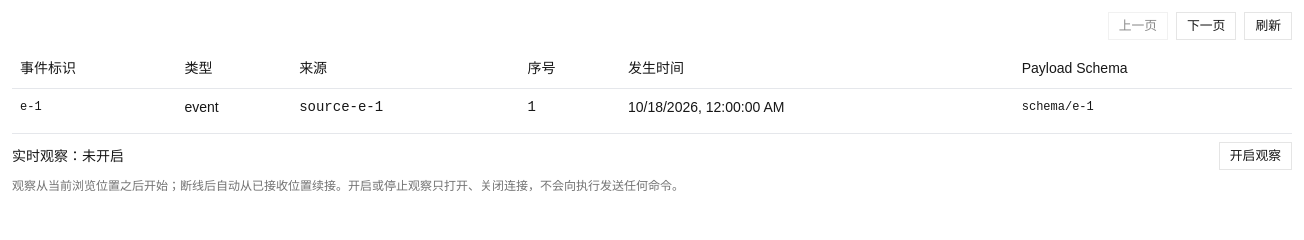
Scenario: RunEventsPanel › shows errors with retry on the same cursor, not a first-page reset
Expected: the text "e-1" is shown, x1=12 y1=88 x2=176 y2=124
What coordinates should you click on to do the following:
click the button "下一页"
I would click on:
 (1206, 26)
Its box is x1=1176 y1=12 x2=1236 y2=40.
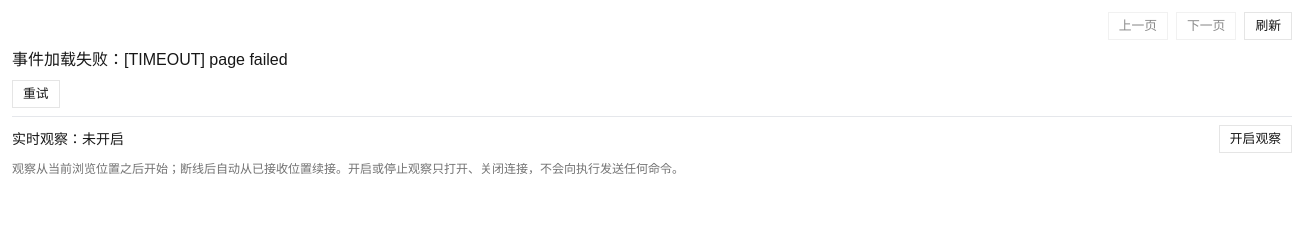
Expected: the element with test id "run-events-error" shows "TIMEOUT", x1=124 y1=51 x2=209 y2=68
What coordinates should you click on to do the following:
click the button "重试"
I would click on:
 (36, 94)
Its box is x1=12 y1=80 x2=60 y2=108.
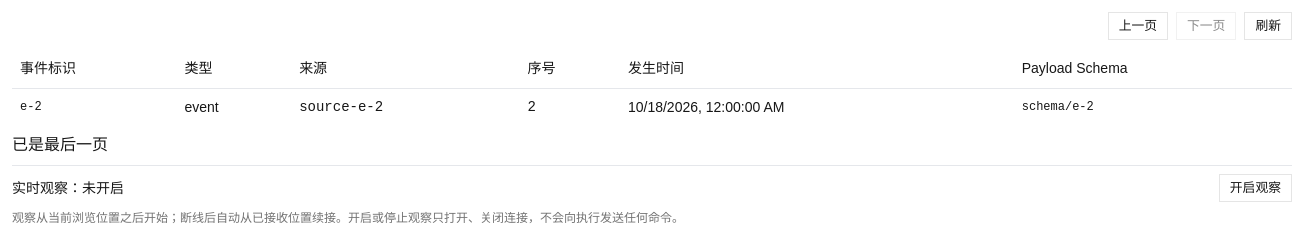
Expected: the text "e-2" is shown, x1=12 y1=88 x2=176 y2=124
